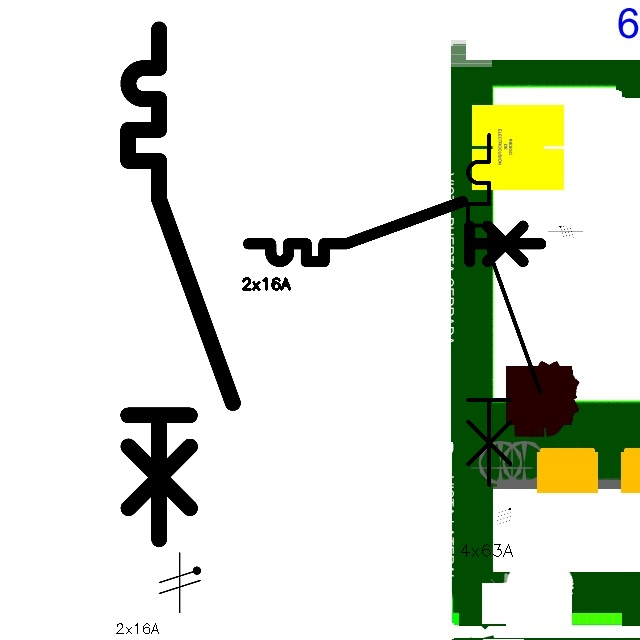interruptor_termomagnetico: (115, 16, 246, 553), (459, 126, 549, 494), (241, 194, 548, 269)
